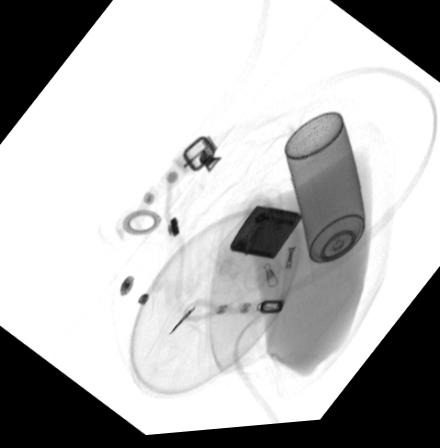Sprayer: (283, 116, 371, 297), (230, 209, 303, 263)
